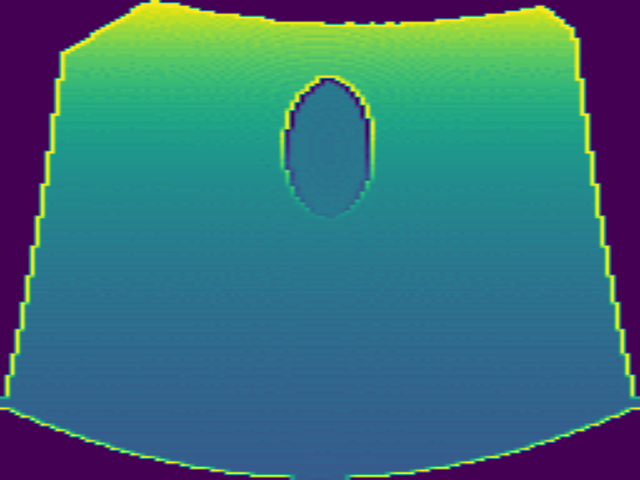sphere: (280, 75, 374, 222)
